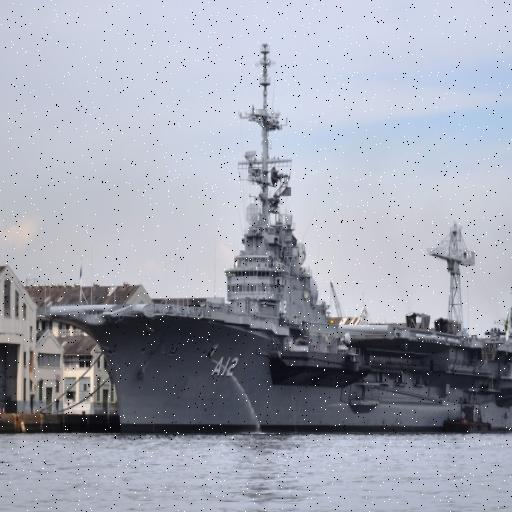Portanaves: (33, 34, 512, 439)
